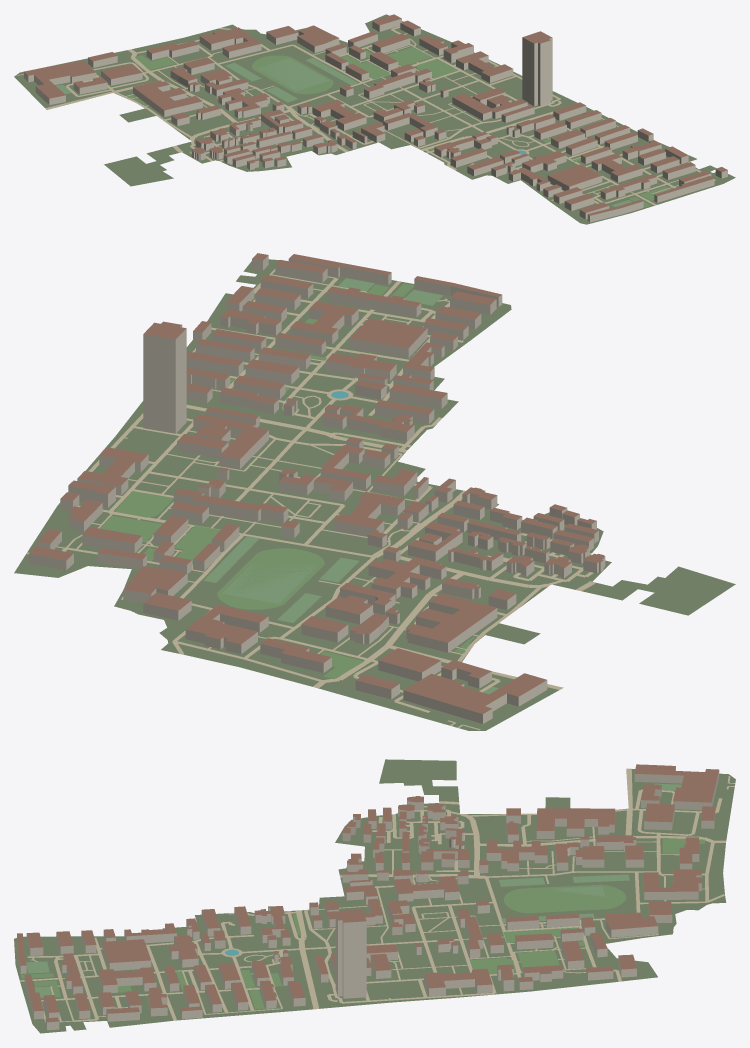
3 renders of one model, top to bottom at view 1: azimuth 30°, elevation 25°; view 2: azimuth 150°, elevation 25°; view 3: azimuth 270°, elevation 25°, orthographic. The views are drawn at different scales.
Parts seen in each view (by area): view 1: buildings, campus-ground, roofs, environment (×3); view 2: buildings, campus-ground, roofs, environment (×3); view 3: campus-ground, roofs, buildings, environment (×3).
Part boxes in pixels (bbox=[...]): buildings: bbox=[24, 18, 727, 222]; campus-ground: bbox=[14, 14, 735, 224]; roofs: bbox=[24, 14, 727, 215]; environment (×3): bbox=[17, 26, 715, 207]; buildings: bbox=[28, 255, 605, 723]; campus-ground: bbox=[14, 259, 735, 730]; roofs: bbox=[29, 253, 604, 713]; environment (×3): bbox=[26, 269, 595, 730]; campus-ground: bbox=[14, 759, 735, 1033]; roofs: bbox=[17, 764, 718, 1022]; buildings: bbox=[17, 767, 719, 1030]; environment (×3): bbox=[19, 768, 735, 1022].
Bounding box in the file's own units: 878 × 114 × 977.
